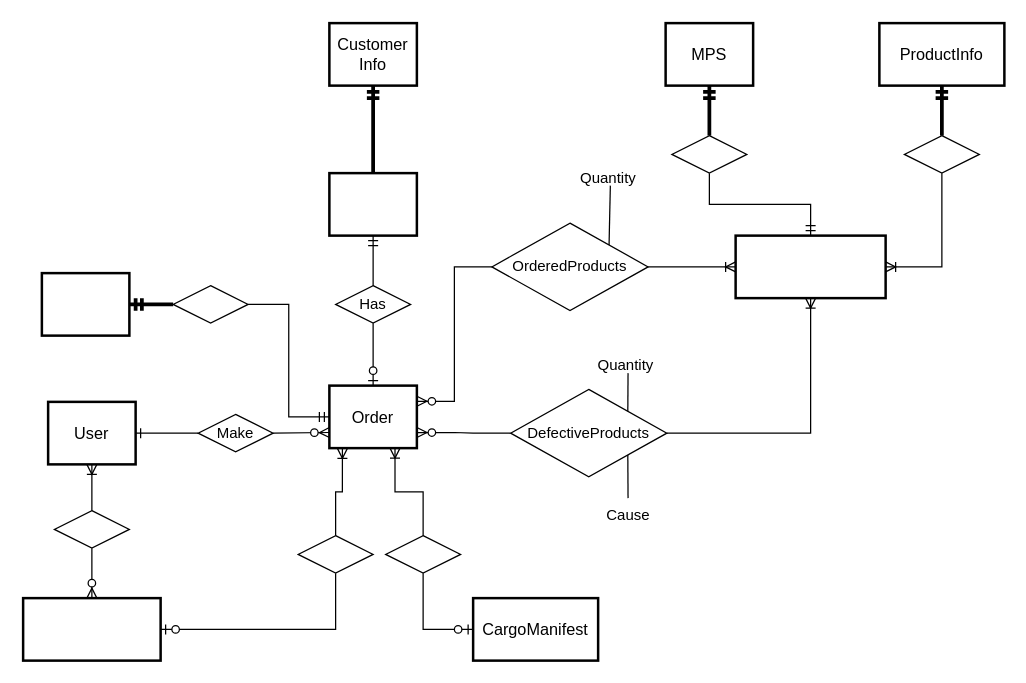
The diagram is 1026 pixels wide and 683 high, and some of its shapes have lost their labels. The shapes that lost their labels are listed below. From the top down, each one's centre as x and y in pixels, then its label:
[709,153]: Storage
[373,203]: Customer
[810,266]: Product
[85,303]: Payment
[91,628]: DeliveryManifest
